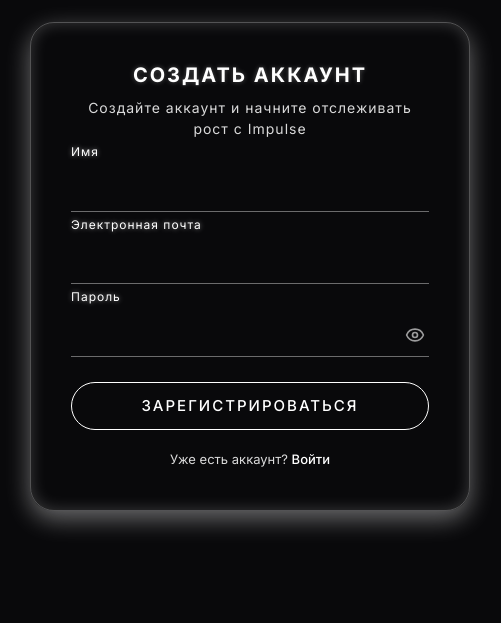
Test case: SignUp › shows error for invalid email format
Step 1. Type "Ivan" into the field labelled "Имя" → (250, 188), box [71,164,429,212]
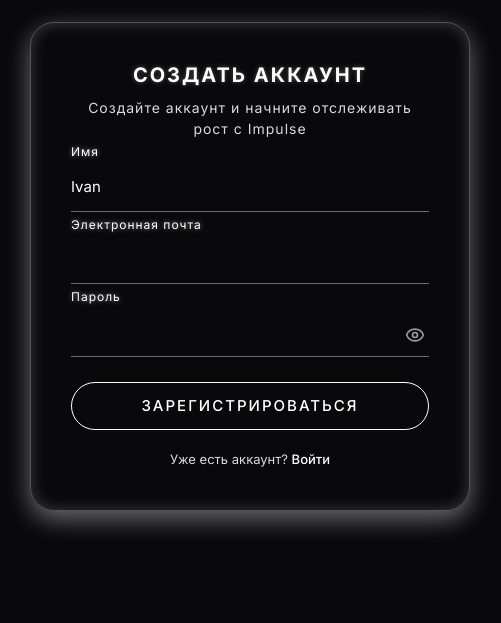
Step 2. Type "not-an-email" into the field labelled "Электронная почта" → (250, 260), box [71,236,429,284]
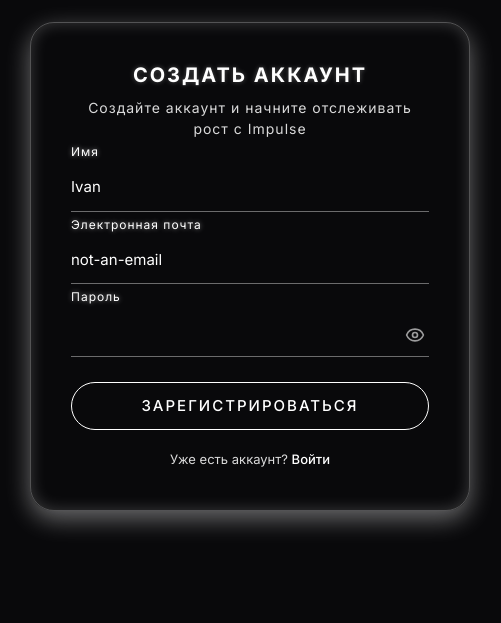
Step 3. Type "password123" into the password field labelled "Пароль" → (250, 333), box [71,309,429,356]
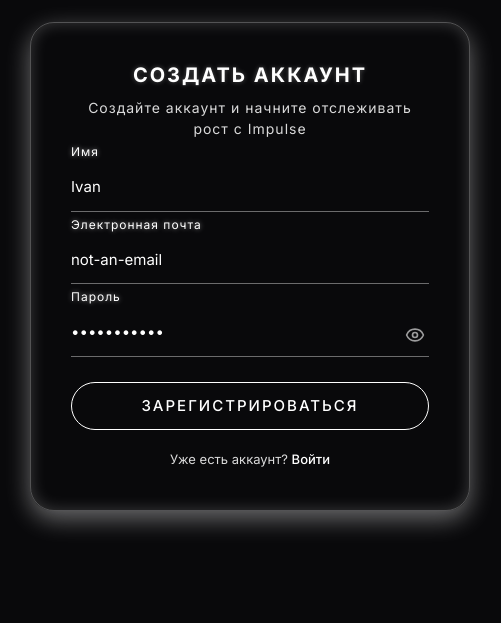
Step 4. Submit the form labelled "Электронная почта", box [71,164,429,430]
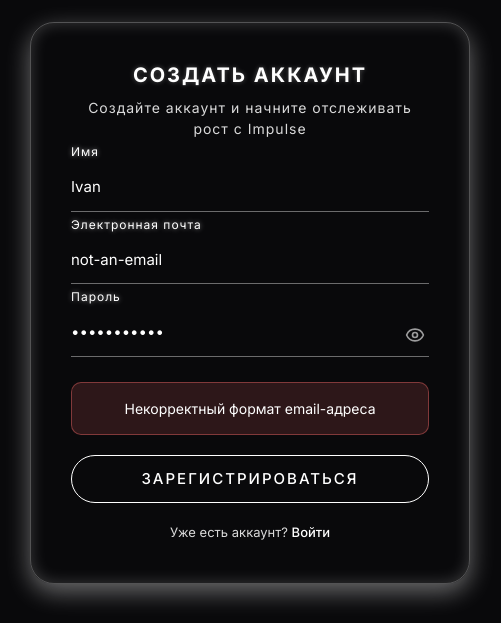
Now the text "Некорректный формат email-адреса" is shown, box [71,382,429,434]
